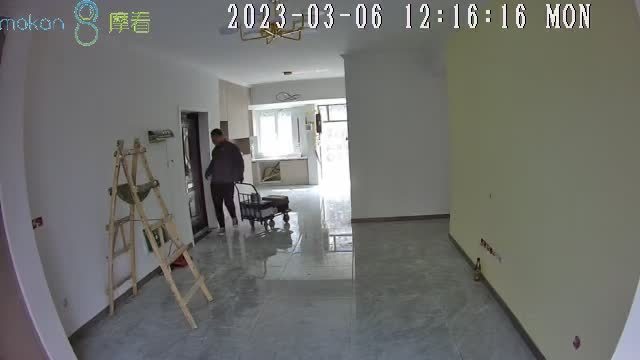people: (205, 128, 245, 236)
window: (253, 112, 294, 154)
